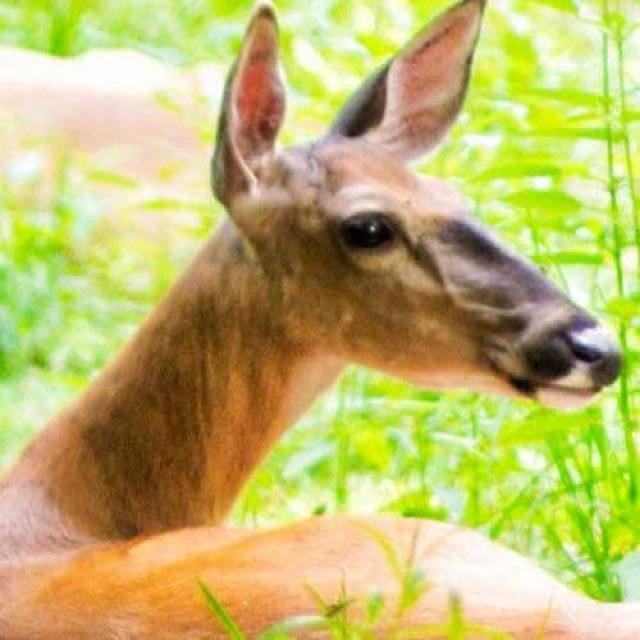deer: (21, 13, 610, 640)
